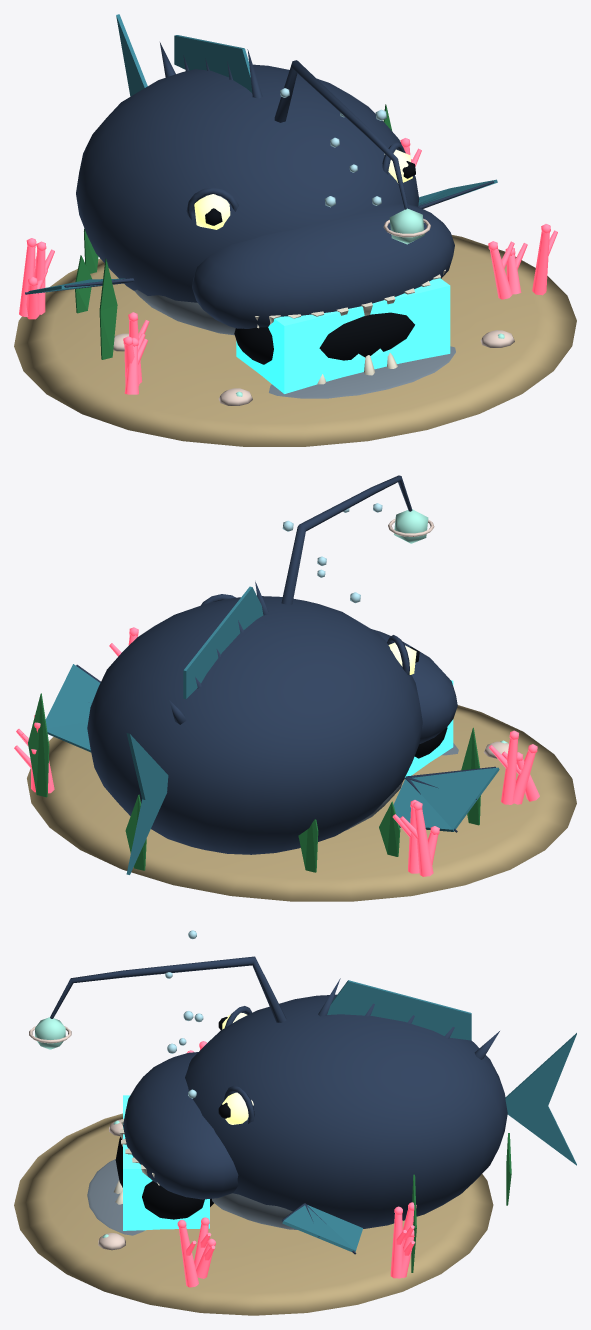
Rendered from AbyssMawFurnace_Roblox.fbx.
3 views of the same model, one above another, from view 1: azimuth 30°, elevation 25°; view 2: azimuth 150°, elevation 25°; view 3: azimuth 270°, elevation 25° (orthographic). The views are drawn at different scales.
Visible parts, largest first — view 1: AnglerSkin, SeabedSand, BurnZone, Coral, AnglerBelly, ThroatDark, FinMembrane, Seaweed, Shell, EyeGlow, LureGlow, Teeth (+1 smaller); view 2: AnglerSkin, SeabedSand, FinMembrane, Coral, Seaweed, LureGlow, BurnZone; view 3: AnglerSkin, SeabedSand, FinMembrane, AnglerBelly, Coral, BurnZone, ThroatDark, Shell, LureGlow, EyeGlow, Seaweed.
Boxes of the visible parts, left/top/right/bottom form: AnglerSkin: left=25, top=42, right=494, bottom=328; SeabedSand: left=14, top=235, right=576, bottom=446; BurnZone: left=236, top=278, right=450, bottom=393; Coral: left=19, top=138, right=557, bottom=394; AnglerBelly: left=133, top=289, right=455, bottom=398; ThroatDark: left=205, top=161, right=415, bottom=364; FinMembrane: left=28, top=14, right=497, bottom=293; Seaweed: left=75, top=104, right=391, bottom=359; Shell: left=113, top=219, right=514, bottom=405; EyeGlow: left=194, top=149, right=412, bottom=229; LureGlow: left=236, top=208, right=504, bottom=396; Teeth: left=255, top=269, right=445, bottom=384; AnglerSkin: left=76, top=475, right=495, bottom=854; SeabedSand: left=27, top=705, right=576, bottom=901; FinMembrane: left=45, top=586, right=499, bottom=874; Coral: left=14, top=627, right=539, bottom=876; Seaweed: left=28, top=693, right=480, bottom=872; LureGlow: left=394, top=509, right=507, bottom=743; BurnZone: left=405, top=680, right=453, bottom=777; AnglerSkin: left=50, top=956, right=507, bottom=1254; SeabedSand: left=14, top=1113, right=493, bottom=1315; FinMembrane: left=282, top=980, right=576, bottom=1251; AnglerBelly: left=87, top=1159, right=357, bottom=1235; Coral: left=177, top=1041, right=416, bottom=1287; BurnZone: left=123, top=1095, right=209, bottom=1230; ThroatDark: left=115, top=1017, right=230, bottom=1219; Shell: left=29, top=1026, right=125, bottom=1250; LureGlow: left=35, top=1017, right=119, bottom=1237; EyeGlow: left=222, top=1012, right=253, bottom=1124; Seaweed: left=411, top=1133, right=511, bottom=1272.
Bounding box in the file's own units: 1440 × 776 × 1550.
